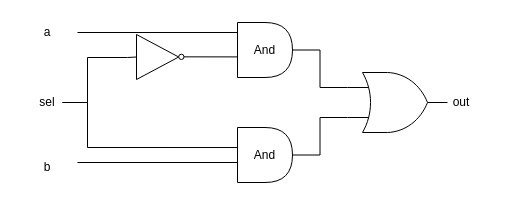
Image size: 508x200. Some labels were removed from this diagram. The centre of each missing label's shape, as x and y in pixels:
"Not" belongs at (157,57).
"Or" belongs at (397,102).
